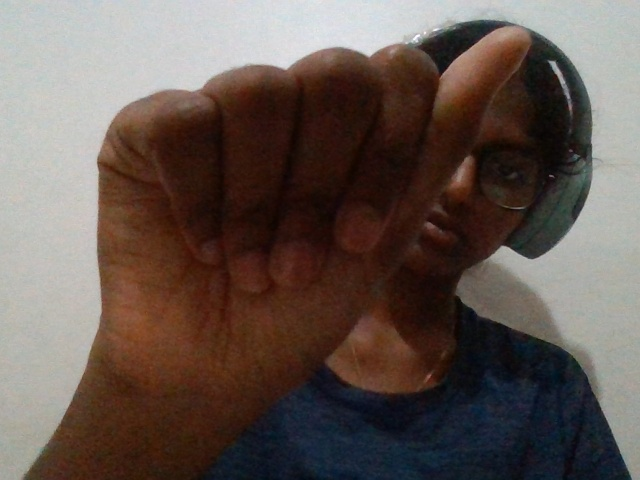A: (46, 9, 550, 458)
